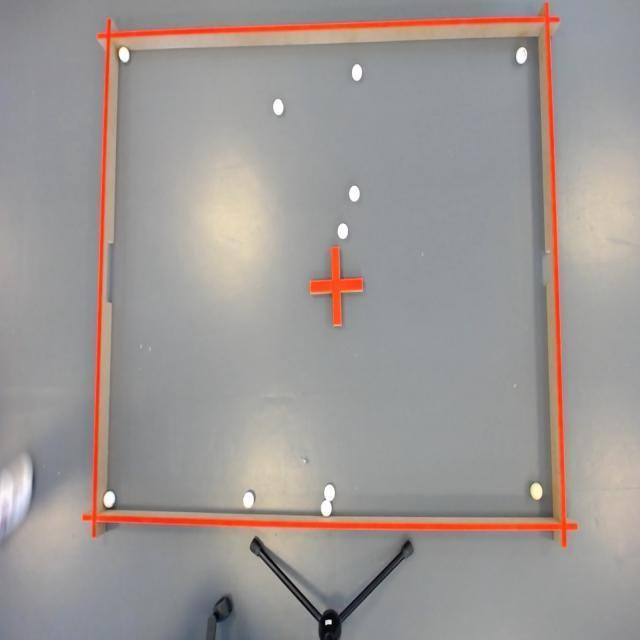white-golf-balls: (530, 483, 542, 500), (516, 47, 527, 64), (273, 99, 284, 115), (349, 186, 360, 202), (243, 492, 254, 508), (352, 64, 362, 81), (324, 485, 335, 500), (321, 501, 332, 516), (338, 223, 348, 239), (104, 492, 115, 506), (119, 47, 129, 62)
